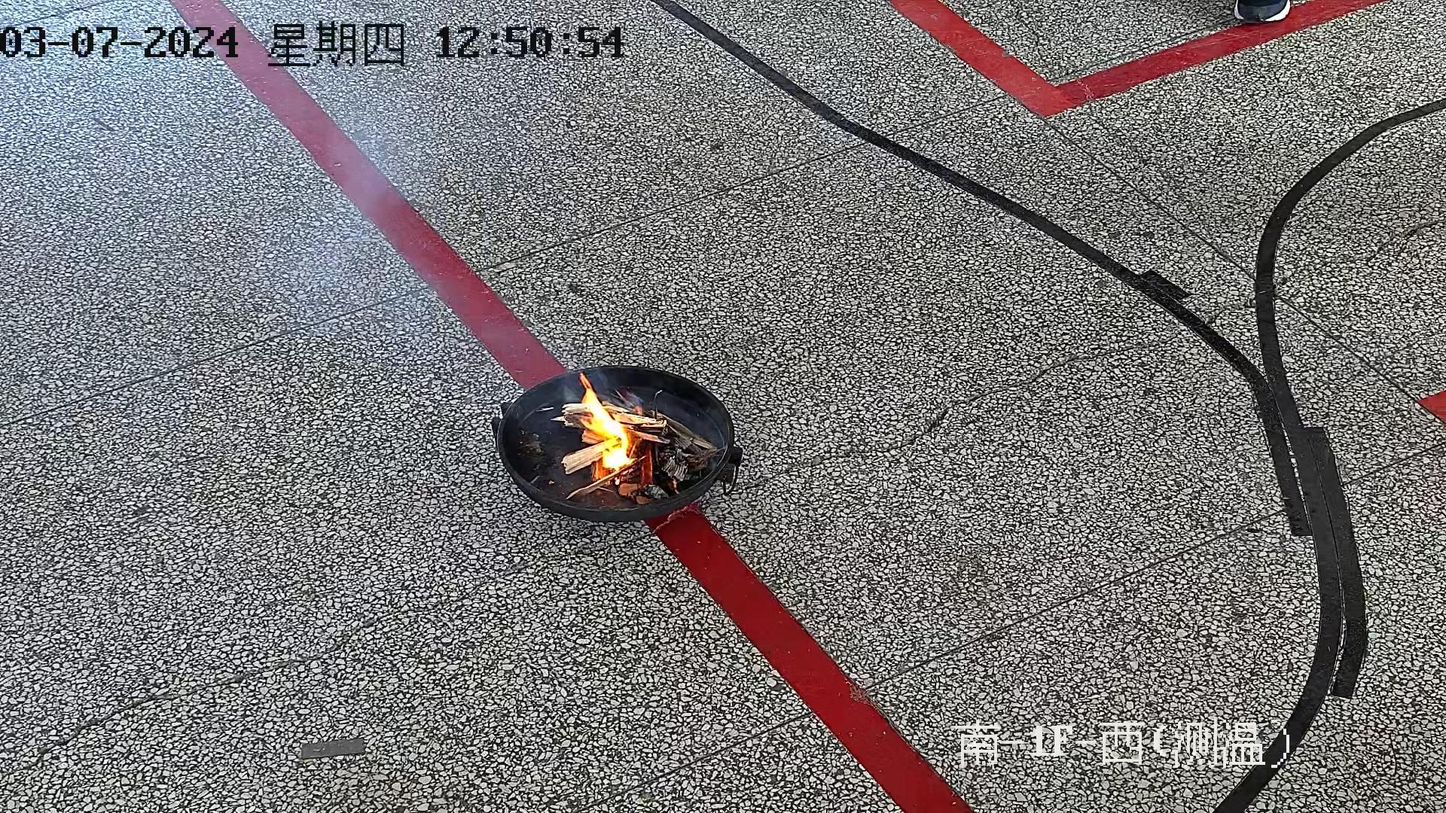fire: (565, 386, 629, 467)
